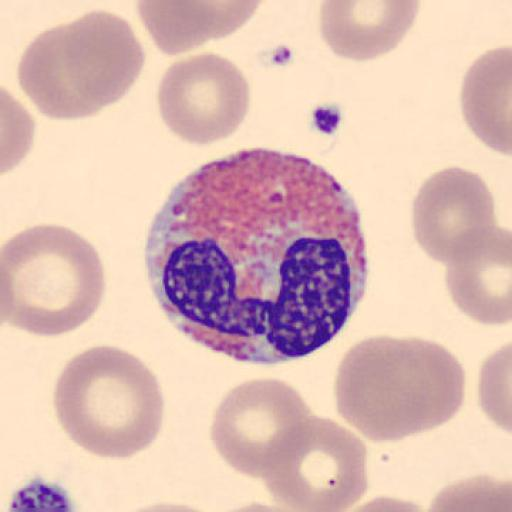Platelet: (6, 475, 79, 512)
RBC: (331, 332, 465, 444), (15, 9, 146, 122), (52, 343, 166, 461), (2, 222, 106, 338), (259, 413, 370, 512), (209, 376, 314, 480), (379, 334, 467, 442), (155, 52, 252, 147), (62, 8, 146, 116), (16, 19, 104, 122), (410, 164, 497, 268), (134, 0, 266, 55), (443, 223, 512, 326), (318, 0, 422, 63), (459, 44, 512, 158), (134, 0, 223, 56), (476, 338, 512, 436), (425, 472, 512, 512), (2, 85, 36, 176), (327, 493, 435, 512), (102, 498, 230, 512), (109, 500, 220, 512), (208, 500, 312, 512)
WBC: (144, 153, 371, 366)
